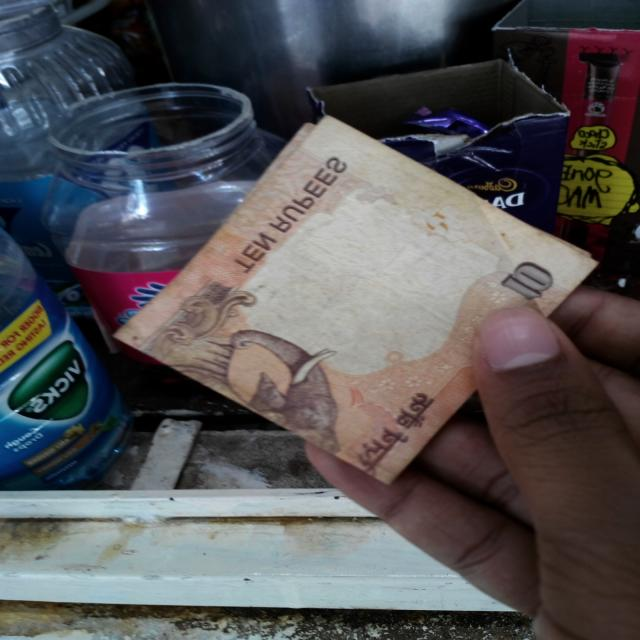10rs: (110, 116, 602, 485), (266, 248, 267, 249)
